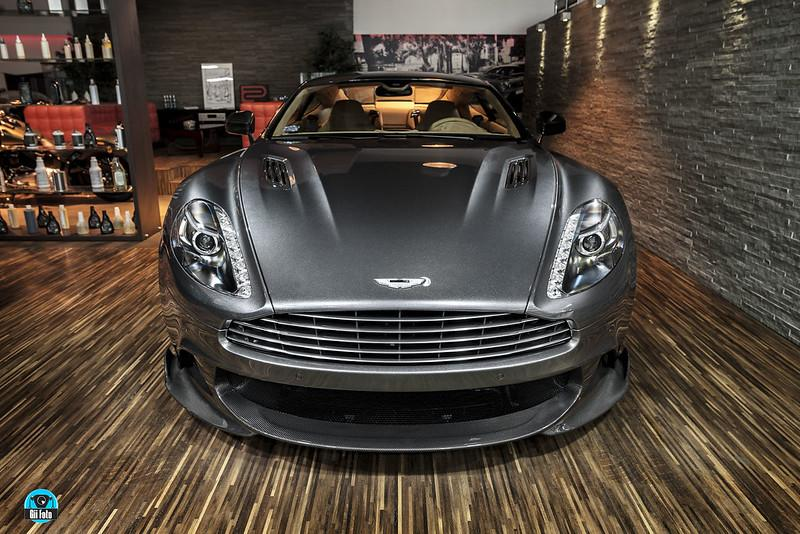windshield: (257, 77, 533, 141)
